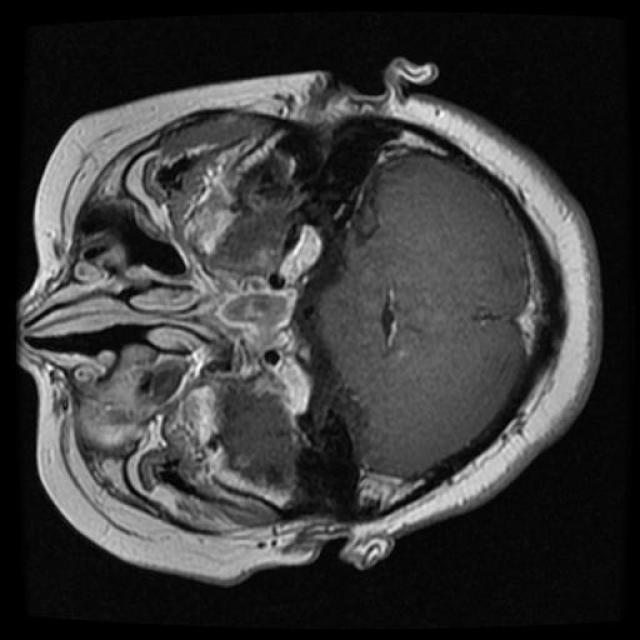Pituitary: (176, 227, 321, 376)
